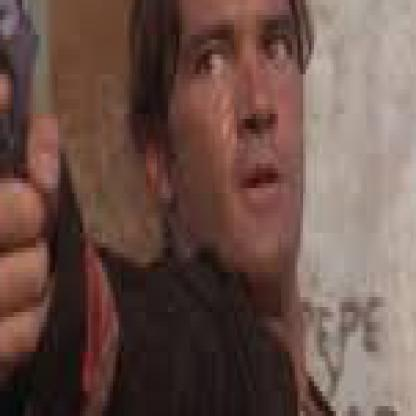gun: (8, 154, 98, 274)
